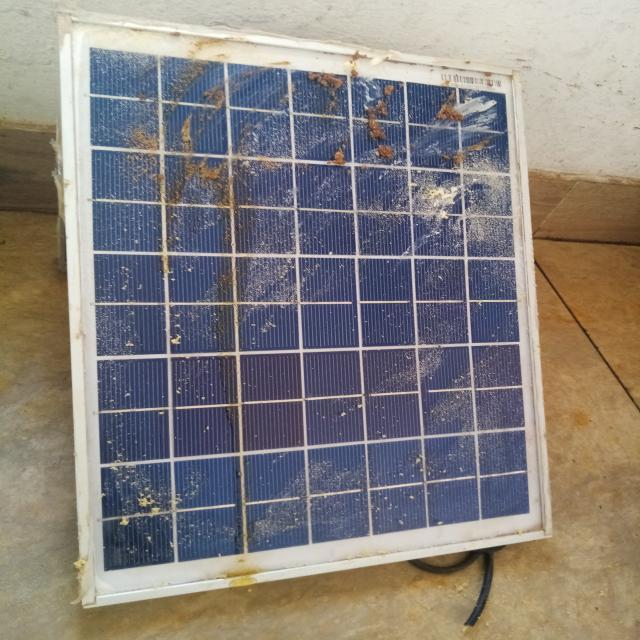faulty: (62, 9, 550, 606)
